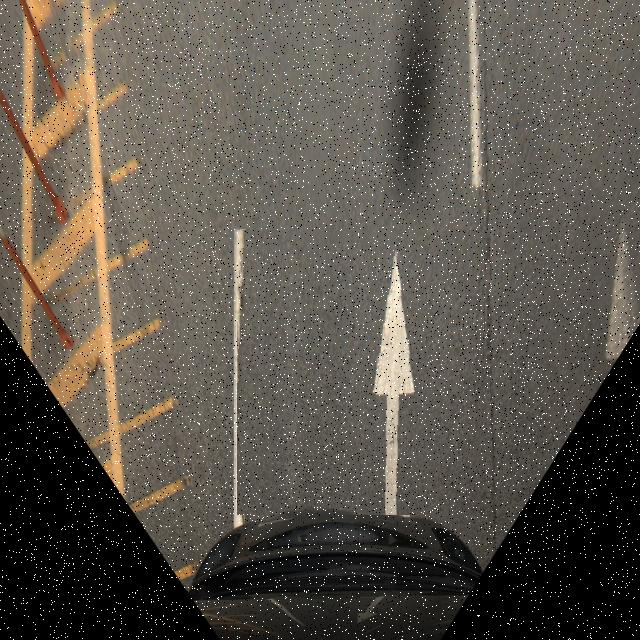forward: (238, 230, 490, 515)
